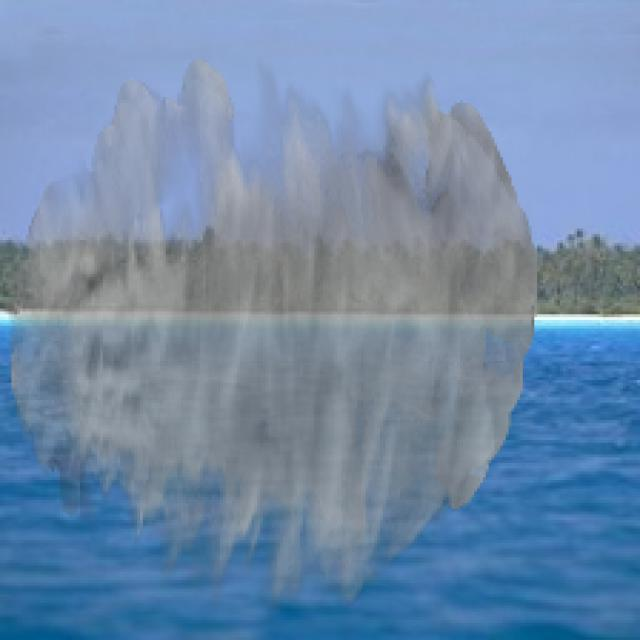Smoke: (9, 57, 538, 612)
